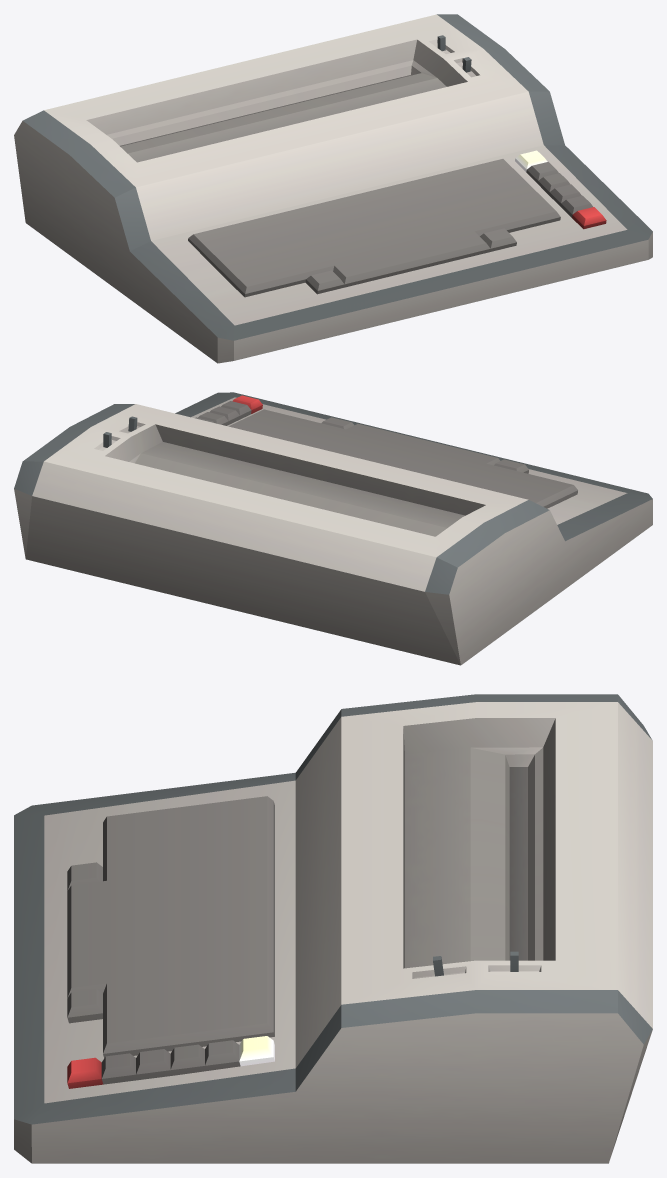
The model's file is RetroTypeWriter.fbx.
3 views of the same model, one above another, from view 1: azimuth 30°, elevation 25°; view 2: azimuth 150°, elevation 25°; view 3: azimuth 270°, elevation 25° (orthographic). The views are drawn at different scales.
Visible parts, largest first — view 1: RetroTypeWriter; view 2: RetroTypeWriter; view 3: RetroTypeWriter.
Part boxes in pixels (x1,y1,x2,y2): RetroTypeWriter: (14,14,652,363); RetroTypeWriter: (14,392,652,665); RetroTypeWriter: (14,694,652,1163).
Size of the model in its own units: 50 by 12.65 by 42.32.
